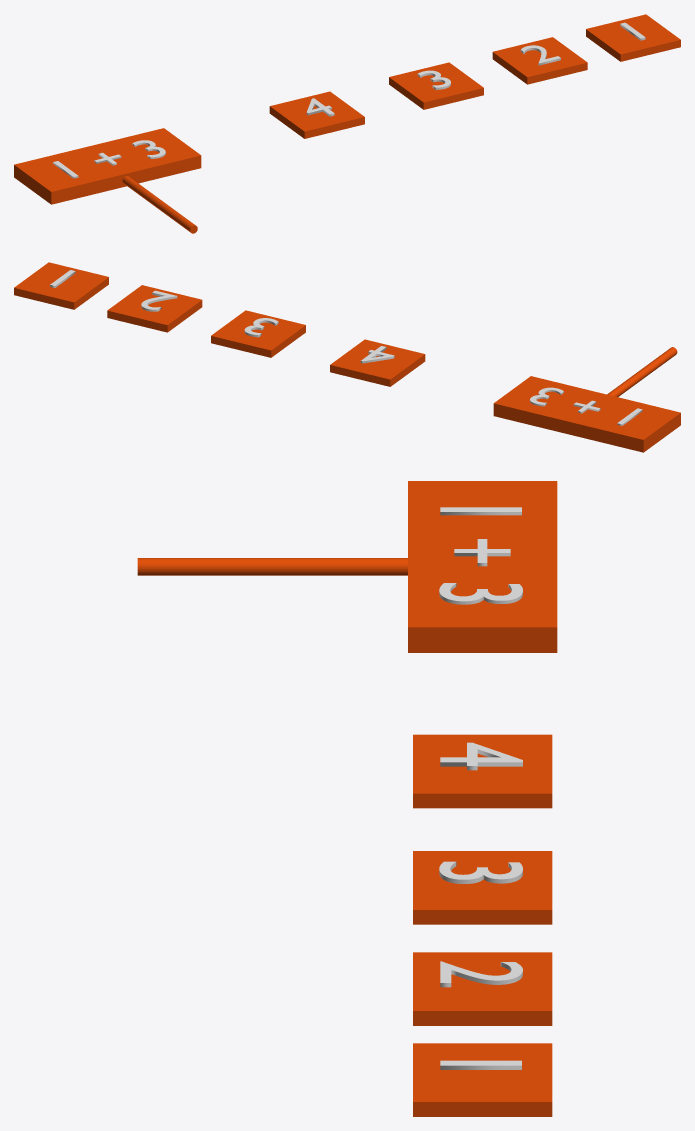
File: первая.fbx
The picture shows the model from 3 angles, top to bottom: view 1: azimuth 30°, elevation 25°; view 2: azimuth 150°, elevation 25°; view 3: azimuth 270°, elevation 25°; orthographic projection. The views are drawn at different scales.
Visible parts, largest first — view 1: Текст, Куб.003, Куб.001, Куб.002, Куб.004; view 2: Текст, Куб.003, Куб.004, Куб.002, Куб.001, Текст.001, Текст.003, Текст.004; view 3: Текст, Куб.003, Куб.001, Куб.004, Куб.002, Текст.003, Текст.001, Текст.004.
Boxes of the visible parts, x1,y1,x2,y2 form: Текст: [14, 128, 201, 233]; Куб.003: [586, 14, 680, 61]; Куб.001: [269, 91, 364, 138]; Куб.002: [492, 37, 587, 84]; Куб.004: [389, 62, 483, 109]; Текст: [493, 347, 680, 452]; Куб.003: [14, 262, 108, 309]; Куб.004: [211, 310, 305, 357]; Куб.002: [107, 285, 202, 332]; Куб.001: [330, 339, 425, 386]; Текст.001: [141, 290, 177, 311]; Текст.003: [360, 346, 394, 363]; Текст.004: [244, 318, 278, 337]; Текст: [137, 481, 557, 652]; Куб.003: [413, 1043, 552, 1116]; Куб.001: [413, 734, 552, 808]; Куб.004: [413, 851, 552, 924]; Куб.002: [413, 952, 552, 1025]; Текст.003: [440, 742, 522, 770]; Текст.001: [440, 961, 522, 987]; Текст.004: [439, 861, 522, 883].
Size of the model in its own units: 1218 by 26.59 by 351.
